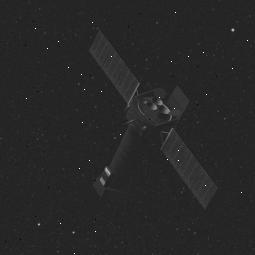xmm_newton: (95, 47, 224, 215)
